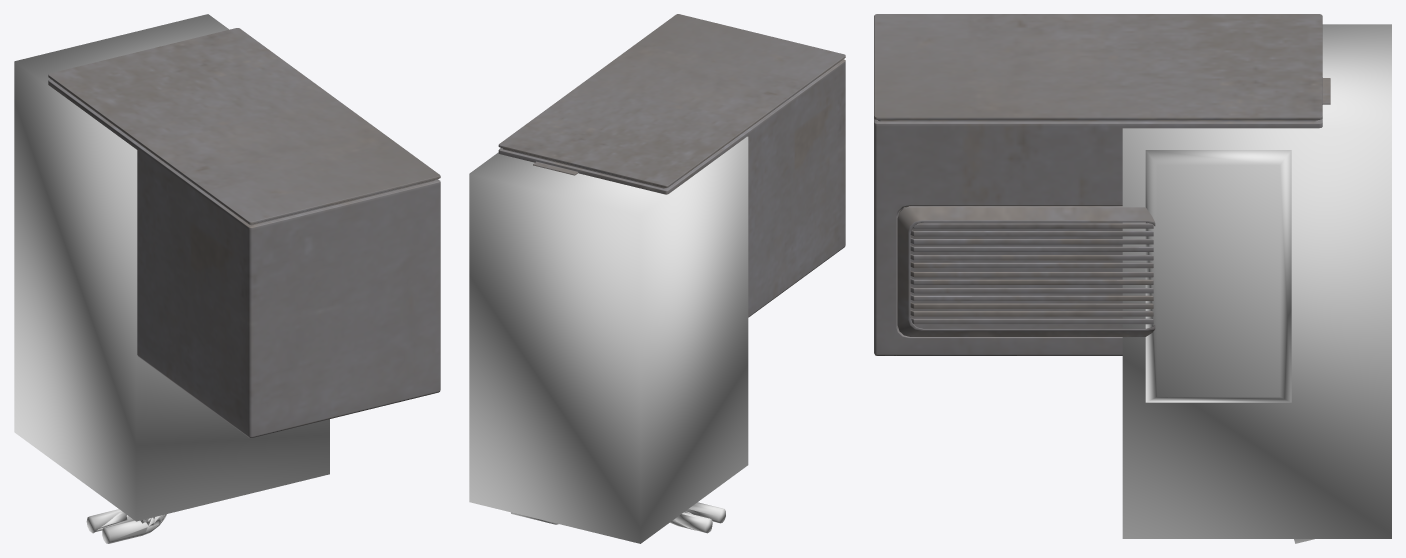
Rendered from SM_AirConditioner.fbx.
3 views of the same model, side by side, from view 1: azimuth 30°, elevation 25°; view 2: azimuth 150°, elevation 25°; view 3: azimuth 270°, elevation 25° (orthographic). The views are drawn at different scales.
Parts seen in each view (by area): view 1: SM_AirConditioner, SM_AirConditioner_ConvexHulls; view 2: SM_AirConditioner_ConvexHulls, SM_AirConditioner; view 3: SM_AirConditioner_ConvexHulls, SM_AirConditioner.
Part boxes in pixels (x1=…): SM_AirConditioner: x1=48, y1=28, x2=440, y2=437; SM_AirConditioner_ConvexHulls: x1=14, y1=14, x2=329, y2=543; SM_AirConditioner_ConvexHulls: x1=469, y1=136, x2=748, y2=543; SM_AirConditioner: x1=498, y1=14, x2=845, y2=317; SM_AirConditioner_ConvexHulls: x1=1122, y1=24, x2=1391, y2=543; SM_AirConditioner: x1=874, y1=14, x2=1330, y2=355.
Bounding box in the file's own units: 0.6347 × 1.27 × 1.27.
